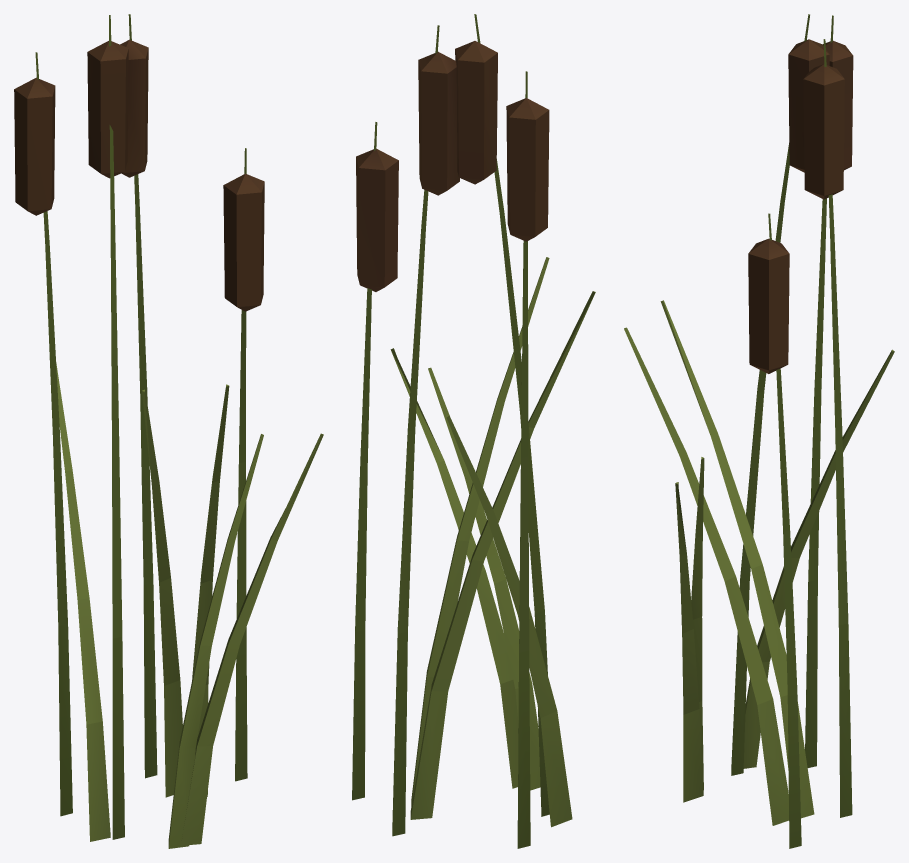
The model's file is reeds_b_low.glb.
3 renders of one model, left to right at view 1: azimuth 30°, elevation 25°; view 2: azimuth 150°, elevation 25°; view 3: azimuth 270°, elevation 25°, orthographic. The views are drawn at different scales.
Bounding box in the file's own units: 0.3742 × 1.26 × 0.3979.
